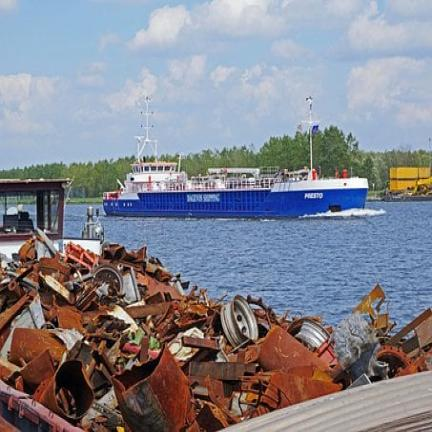karat: (113, 349, 194, 431), (259, 370, 340, 414), (259, 327, 329, 372), (10, 328, 65, 363)
